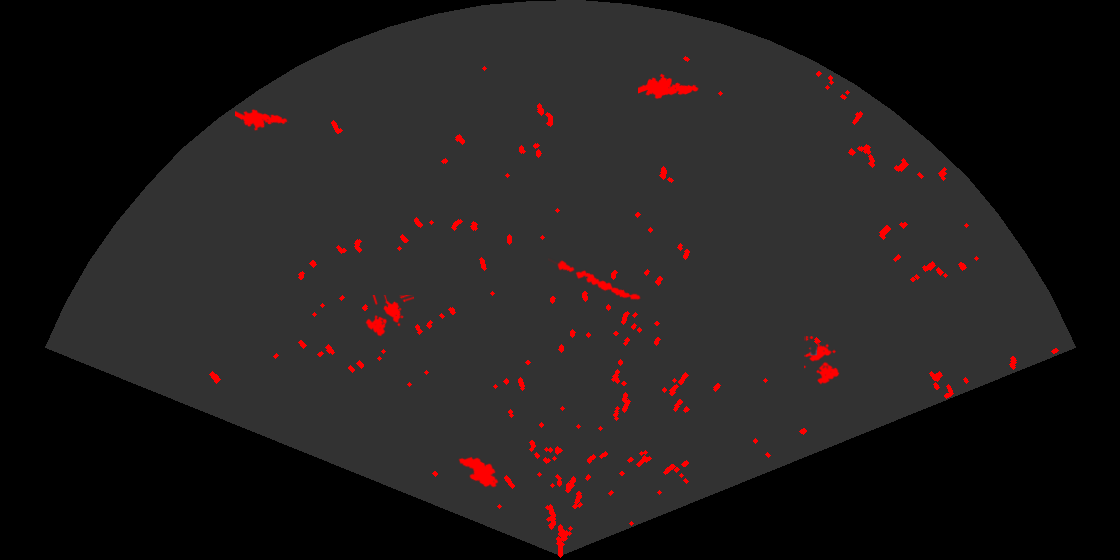AUV: (457, 455, 500, 489)
cage: (364, 295, 414, 338), (804, 336, 841, 386)
chain: (548, 257, 642, 302)
frogman: (638, 72, 701, 101), (235, 107, 289, 132)
